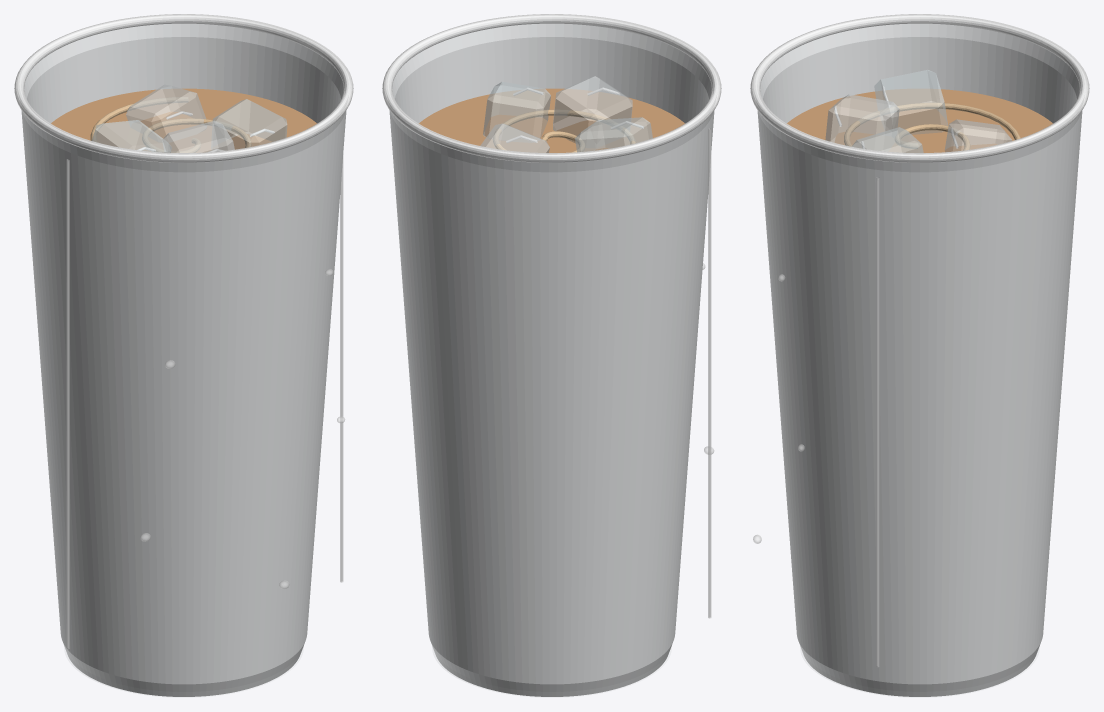
Rendered from americano.glb.
3 views of the same model, side by side, from view 1: azimuth 30°, elevation 25°; view 2: azimuth 150°, elevation 25°; view 3: azimuth 270°, elevation 25° (orthographic).
Visible parts, largest first — view 1: Very clear glass wall, Liquid surface, Glass top rim, Translucent ice cube 04, Translucent ice cube 03, Glass edge highlight left, Translucent ice cube 01, Translucent ice cube 02, Cream and syrup surface swirl, Glass edge highlight right; view 2: Very clear glass wall, Liquid surface, Glass top rim, Translucent ice cube 02, Translucent ice cube 03, Translucent ice cube 01, Glass edge highlight left, Cream and syrup surface swirl, Translucent ice cube 04; view 3: Very clear glass wall, Liquid surface, Glass top rim, Translucent ice cube 01, Translucent ice cube 02, Cream and syrup surface swirl, Glass edge highlight right, Translucent ice cube 04, Translucent ice cube 03.
Part boxes in pixels (left/top/right/bottom): Very clear glass wall: left=18, top=16, right=349, bottom=696; Liquid surface: left=51, top=88, right=316, bottom=152; Glass top rim: left=14, top=14, right=353, bottom=162; Translucent ice cube 04: left=126, top=84, right=206, bottom=138; Translucent ice cube 03: left=211, top=99, right=287, bottom=149; Glass edge highlight left: left=66, top=159, right=69, bottom=649; Translucent ice cube 01: left=92, top=120, right=171, bottom=152; Translucent ice cube 02: left=162, top=120, right=234, bottom=152; Cream and syrup surface swirl: left=90, top=97, right=251, bottom=152; Glass edge highlight right: left=340, top=155, right=343, bottom=582; Very clear glass wall: left=386, top=16, right=717, bottom=696; Liquid surface: left=419, top=88, right=684, bottom=152; Glass top rim: left=382, top=14, right=721, bottom=162; Translucent ice cube 02: left=553, top=76, right=632, bottom=143; Translucent ice cube 03: left=483, top=81, right=550, bottom=138; Translucent ice cube 01: left=575, top=117, right=652, bottom=152; Glass edge highlight left: left=708, top=128, right=711, bottom=618; Cream and syrup surface swirl: left=493, top=109, right=635, bottom=152; Translucent ice cube 04: left=480, top=123, right=549, bottom=152; Very clear glass wall: left=754, top=16, right=1085, bottom=696; Liquid surface: left=787, top=89, right=1052, bottom=152; Glass top rim: left=750, top=14, right=1089, bottom=162; Translucent ice cube 01: left=874, top=70, right=948, bottom=134; Translucent ice cube 02: left=825, top=94, right=899, bottom=146; Cream and syrup surface swirl: left=844, top=102, right=1020, bottom=150; Glass edge highlight right: left=876, top=177, right=879, bottom=667; Translucent ice cube 04: left=944, top=119, right=1011, bottom=151; Translucent ice cube 03: left=852, top=127, right=923, bottom=152.
Bounding box in the file's own units: 0.616 × 1.13 × 0.616.
